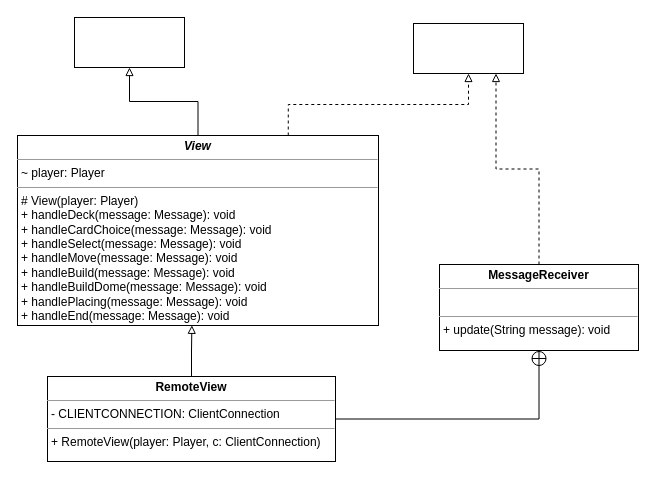
Image size: 656x479. Some labels were removed from this diagram. Each missing label, with the centre of its shape:
"Observable" belongs at point (129, 42).
"«interface» Observer" belongs at point (468, 48).
